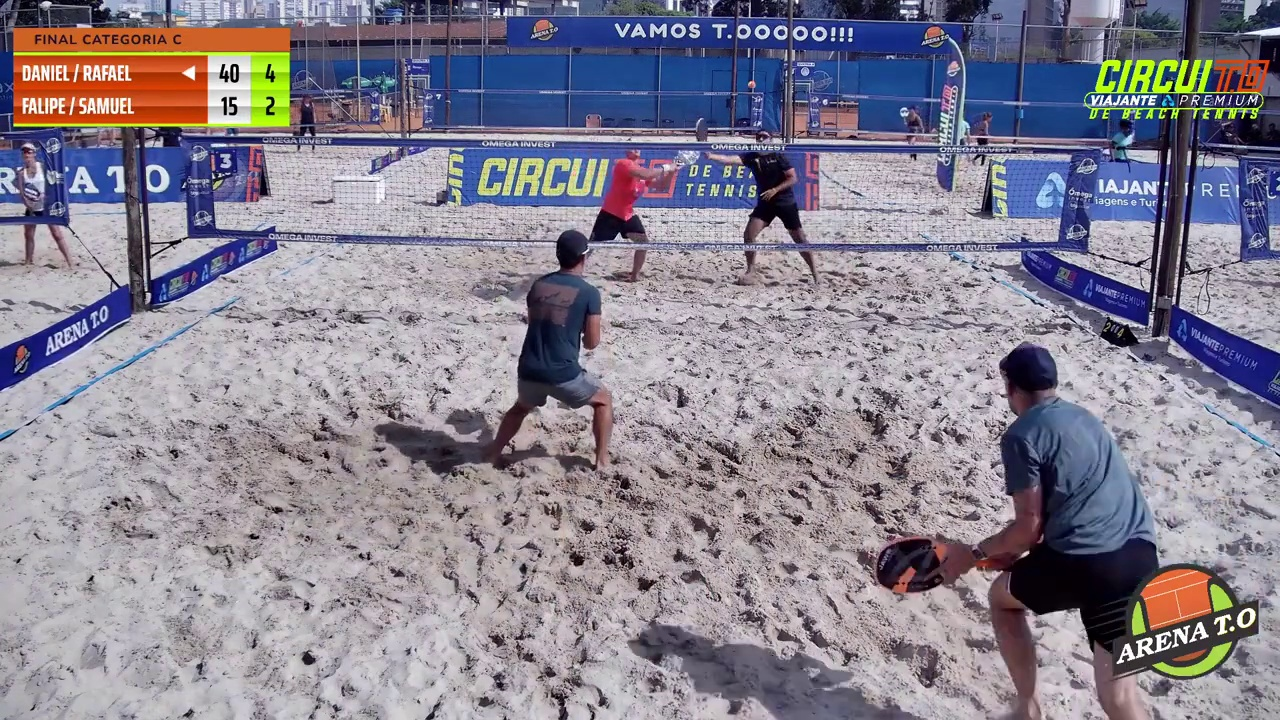court_line: (640, 0, 832, 408)
